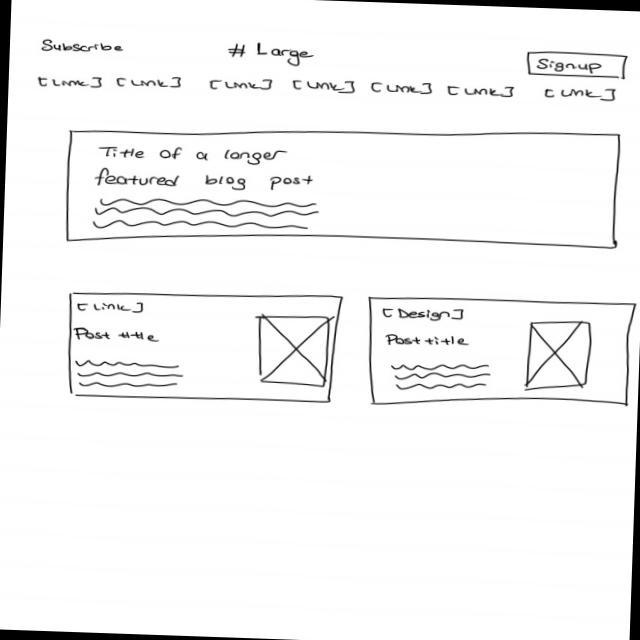button: (526, 50, 630, 80)
container: (64, 113, 623, 262), (64, 285, 346, 410), (363, 294, 638, 418)
image: (254, 315, 330, 389), (524, 319, 594, 393)
label: (94, 167, 315, 194), (97, 143, 290, 167), (390, 361, 493, 394), (227, 41, 317, 68), (73, 326, 162, 345), (40, 39, 127, 56), (385, 333, 471, 349)
link: (379, 305, 468, 324), (545, 86, 618, 103), (37, 74, 105, 92), (447, 83, 518, 100), (208, 76, 276, 93), (116, 75, 184, 92), (76, 299, 146, 315), (291, 79, 358, 95), (371, 80, 435, 96)
textbox: (89, 194, 322, 237), (74, 359, 184, 391)
